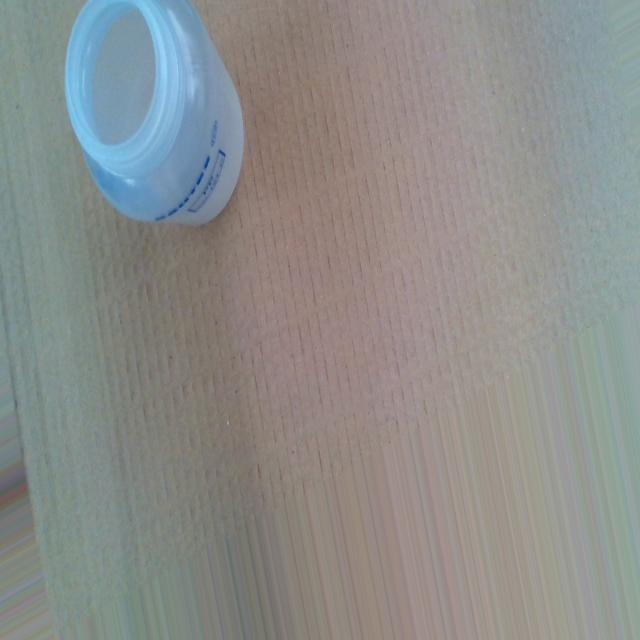bottle: (63, 1, 252, 237)
